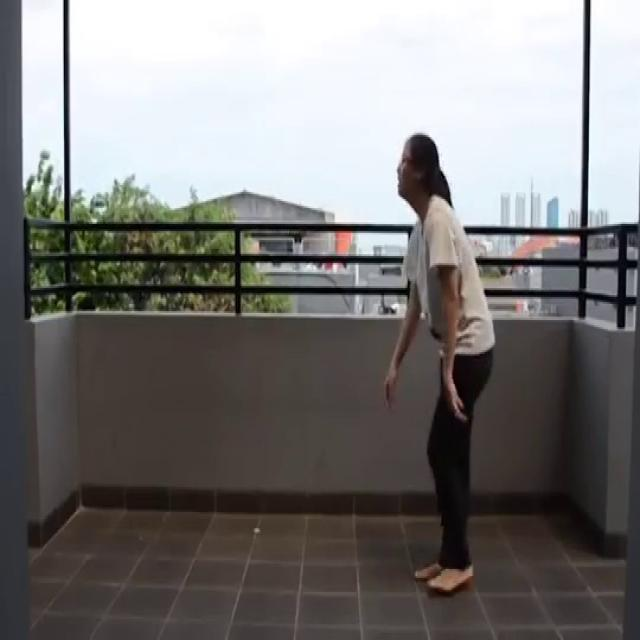normal: (367, 123, 505, 612)
